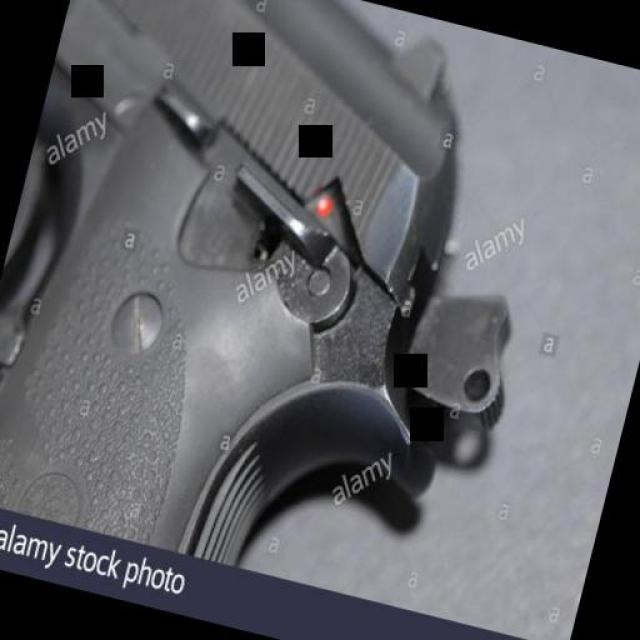gun: (0, 0, 586, 619)
